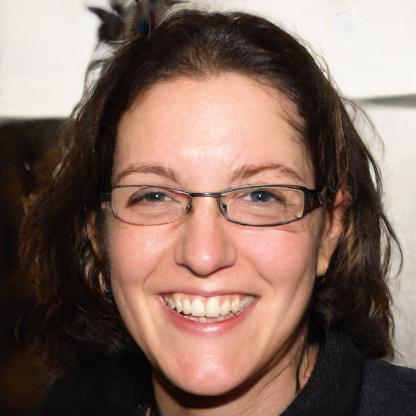glasses: (104, 175, 312, 230)
